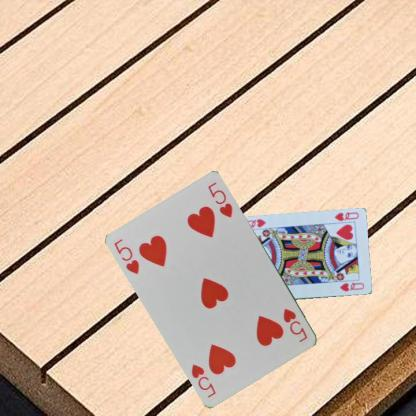5h: (111, 236, 141, 276), (281, 306, 309, 343)
Qh: (332, 210, 360, 222)
